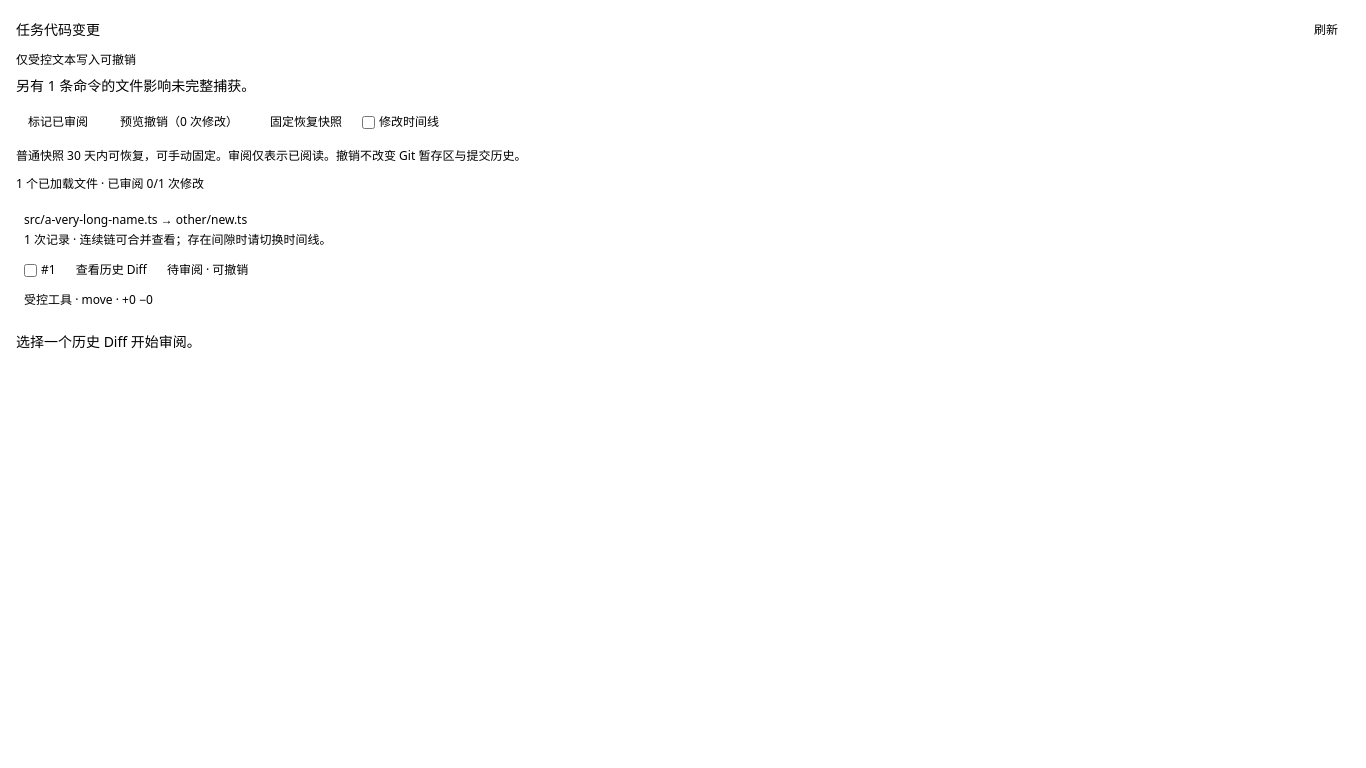
Test case: shows both move paths and disables confirmation for a stale preview
The width and height of the screenshot is (1366, 768).
Click the checkbox named "选择 src". click: (30, 270)
box: [24,264,37,276]
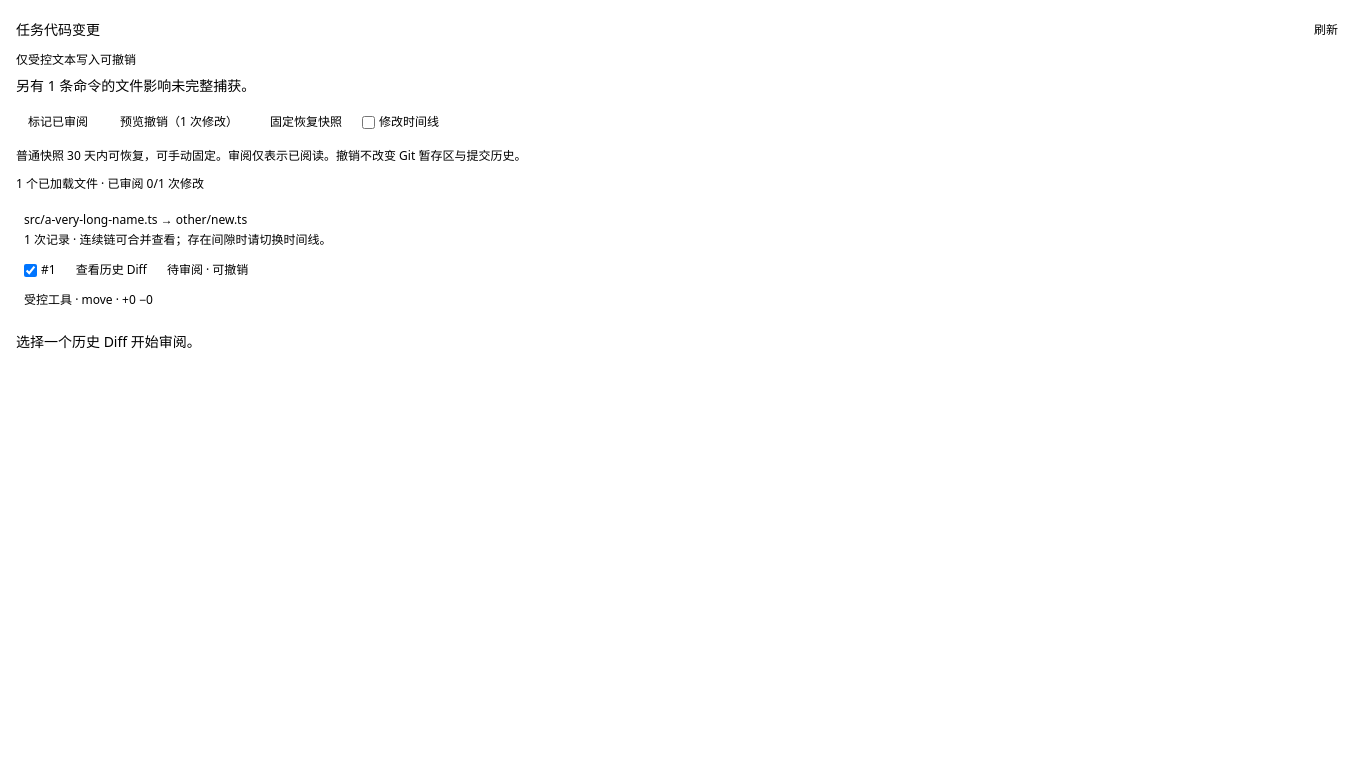
Click the button "预览撤销（1 次修改）". click: (179, 122)
box: [108,108,250,136]
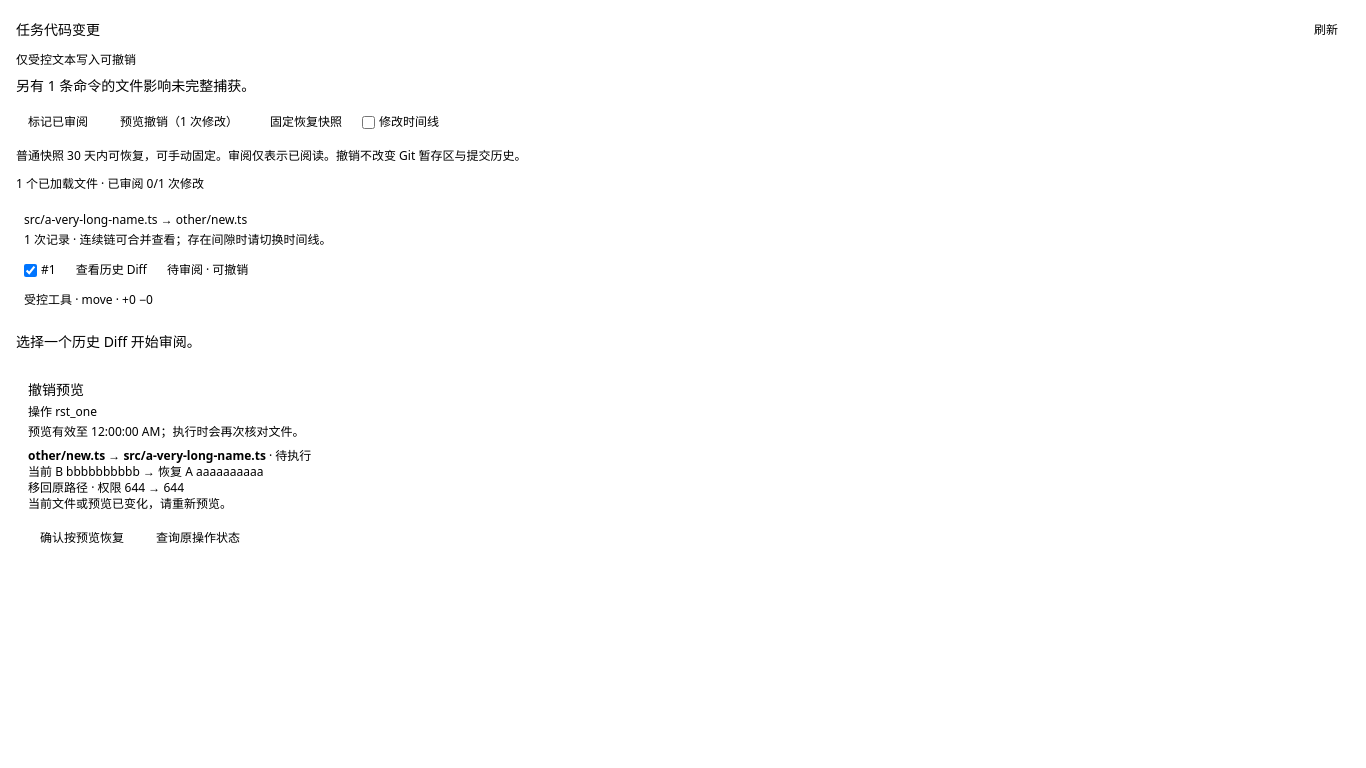
Now the button "确认按预览恢复" is disabled, box [28,524,136,552]
